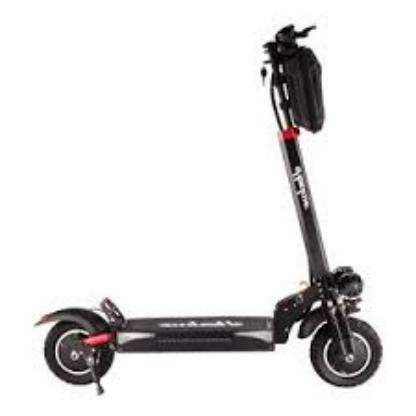bike: (34, 266, 383, 395), (34, 297, 278, 395), (272, 266, 383, 388)
